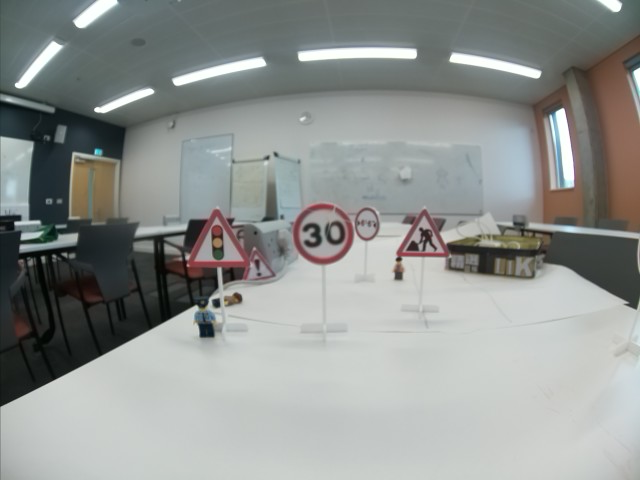30mph: (291, 202, 354, 266)
6ft6: (353, 205, 382, 240)
Lego Man: (192, 297, 215, 340), (212, 290, 244, 308), (392, 257, 407, 279)
Roadworks: (395, 206, 454, 257)
Traffic lights: (185, 205, 245, 268)
Warning: (243, 249, 276, 281)
